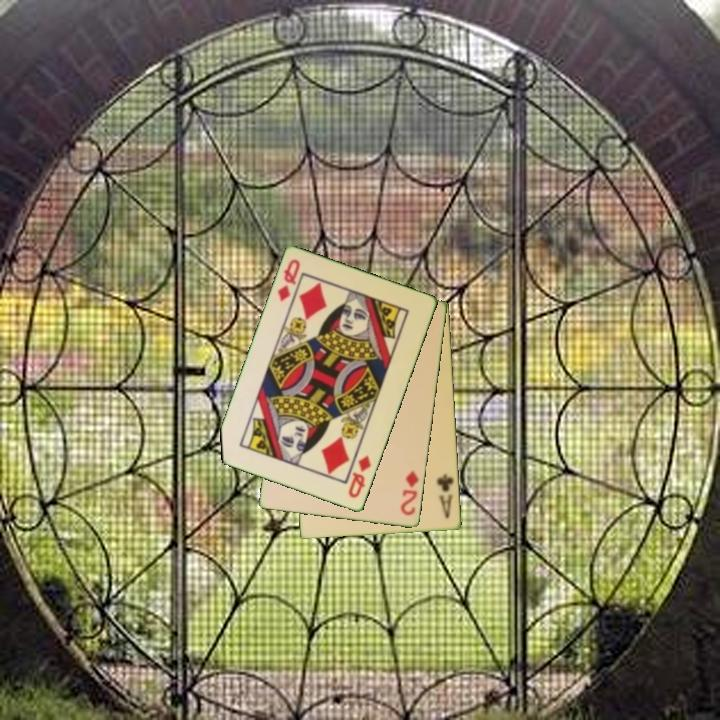2d: (397, 467, 422, 519)
Ac: (434, 471, 457, 522)
Qd: (345, 452, 374, 501), (274, 256, 303, 305)
